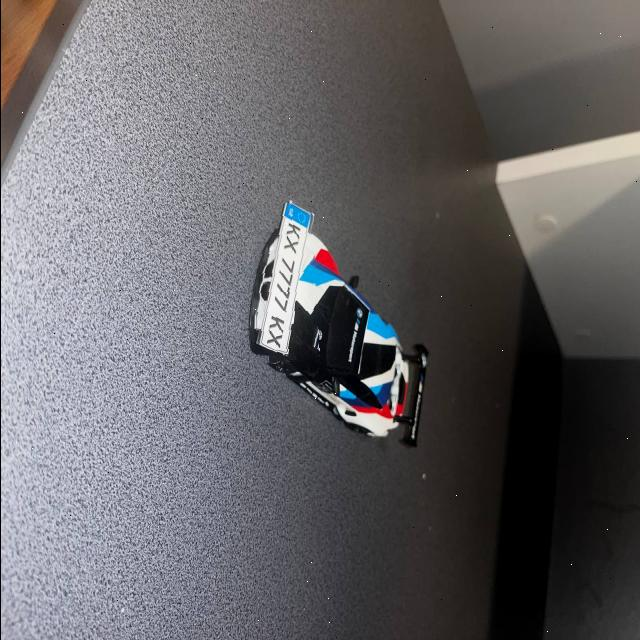KX 7777 KX: (256, 203, 312, 362)
